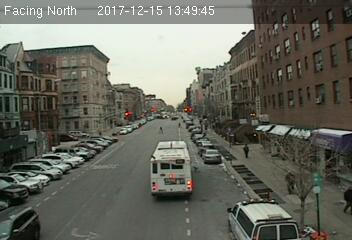car: (1, 203, 41, 239), (201, 147, 221, 163)
pedestrian: (285, 170, 297, 196), (242, 142, 252, 160)
police: (226, 197, 299, 240)
